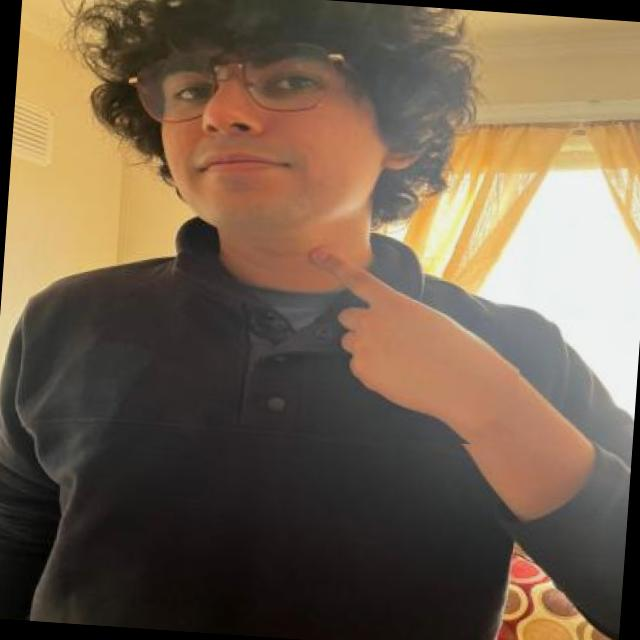Q: (251, 221, 528, 447)
